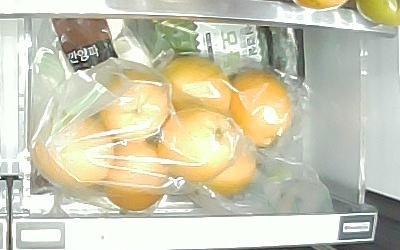orange_vinyl: (33, 113, 113, 191), (159, 108, 234, 183), (230, 67, 295, 150), (102, 67, 167, 139), (163, 56, 231, 116), (106, 142, 166, 210), (206, 141, 258, 196)
